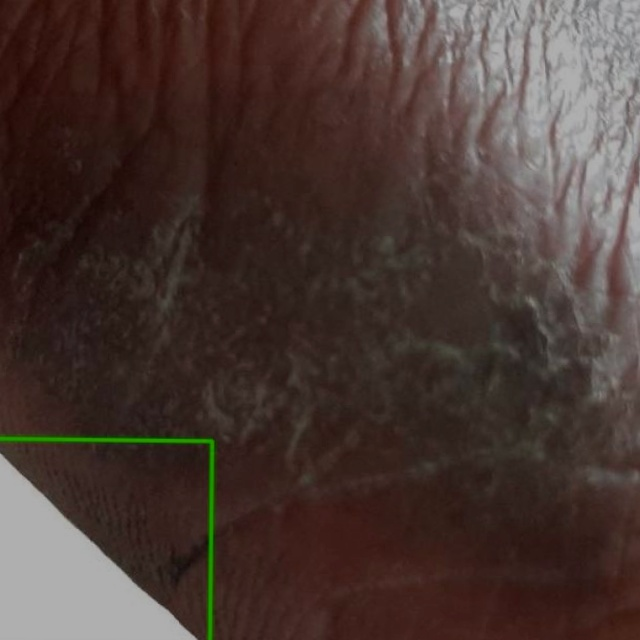Eczema: (0, 438, 212, 639)
